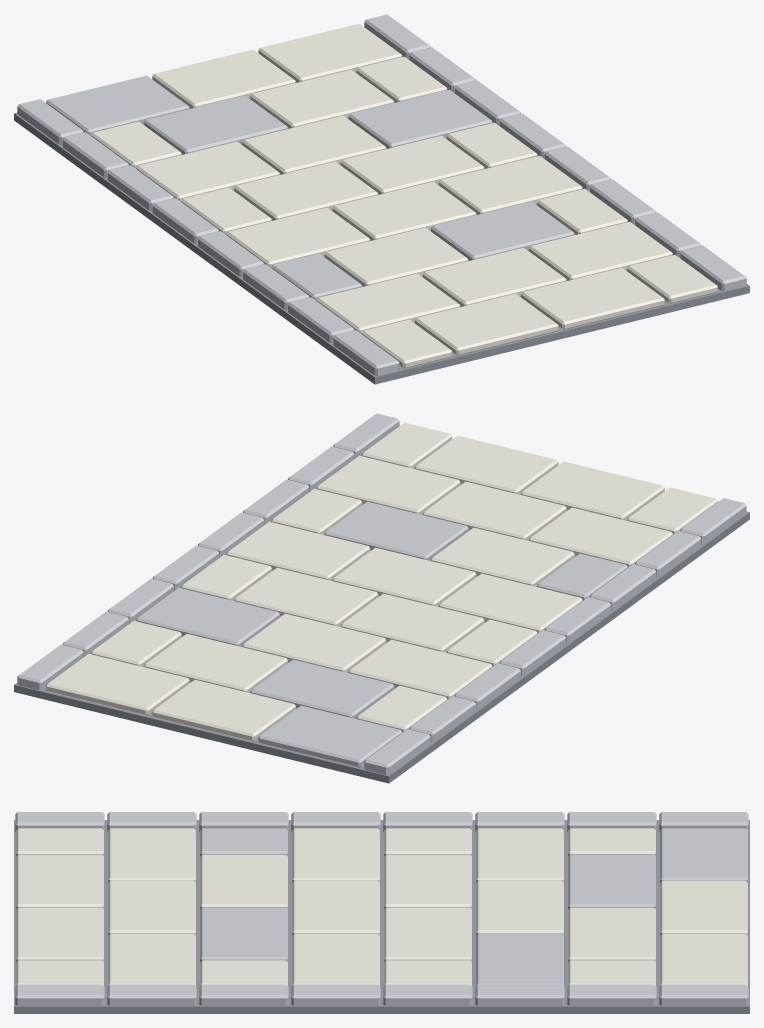
Rendered from deco_path_stone_4m.glb.
3 renders of one model, top to bottom at view 1: azimuth 30°, elevation 25°; view 2: azimuth 150°, elevation 25°; view 3: azimuth 270°, elevation 25°, orthographic.
Parts seen in each view (by area): view 1: deco_path_stone_4m; view 2: deco_path_stone_4m; view 3: deco_path_stone_4m.
Part boxes in pixels (x1,y1,x2,y2): deco_path_stone_4m: (14, 14, 749, 384); deco_path_stone_4m: (14, 413, 749, 783); deco_path_stone_4m: (14, 812, 749, 1013).
Size of the model in its own units: 2.4 by 0.1025 by 4.
1 material, 1 textured.
